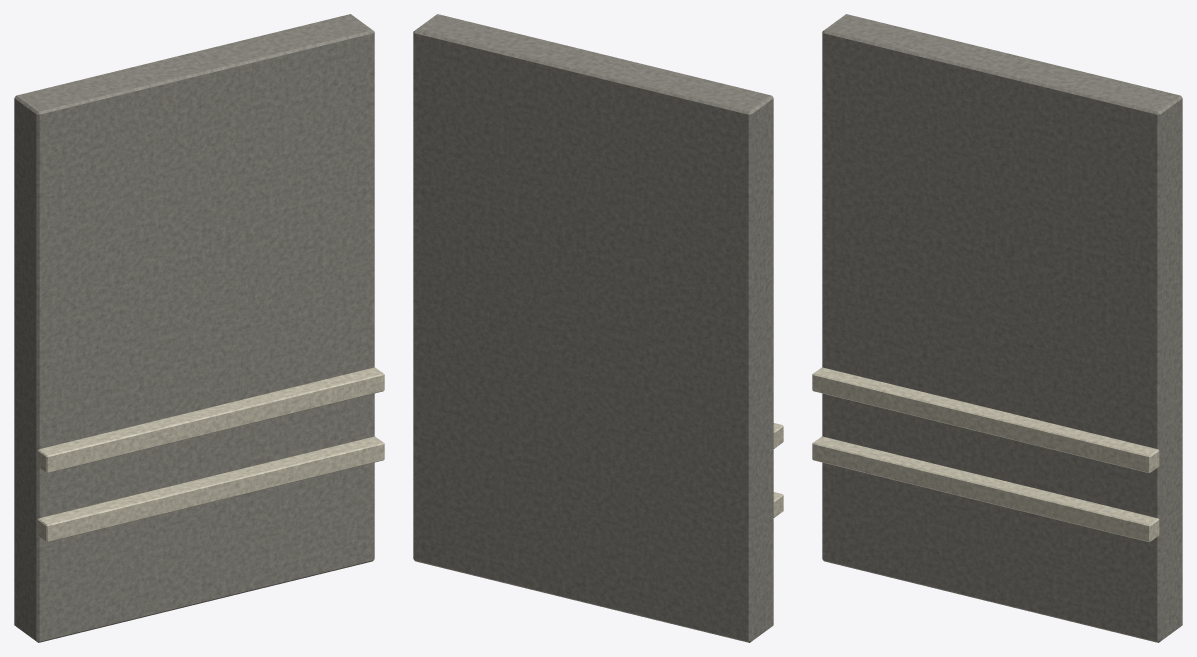
File: TUNN32RC_lod1.glb
3 views of the same model, side by side, from view 1: azimuth 30°, elevation 25°; view 2: azimuth 150°, elevation 25°; view 3: azimuth 330°, elevation 25° (orthographic).
Parts seen in each view (by area): view 1: TUNN32RC_LOD1; view 2: TUNN32RC_LOD1; view 3: TUNN32RC_LOD1.
Part boxes in pixels (x1,y1,x2,y2): TUNN32RC_LOD1: (14, 14, 384, 642); TUNN32RC_LOD1: (413, 14, 783, 642); TUNN32RC_LOD1: (812, 14, 1182, 642).
Bounding box in the file's own units: 2 × 3 × 0.345.
Materials: 2 (2 with a texture image).
